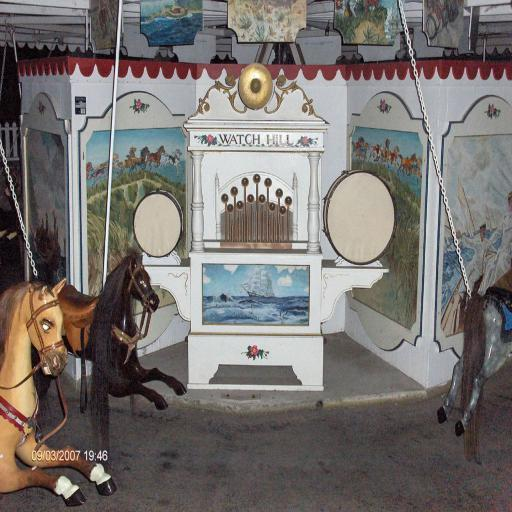horse: (32, 244, 186, 444), (0, 278, 119, 508), (436, 288, 512, 458)
